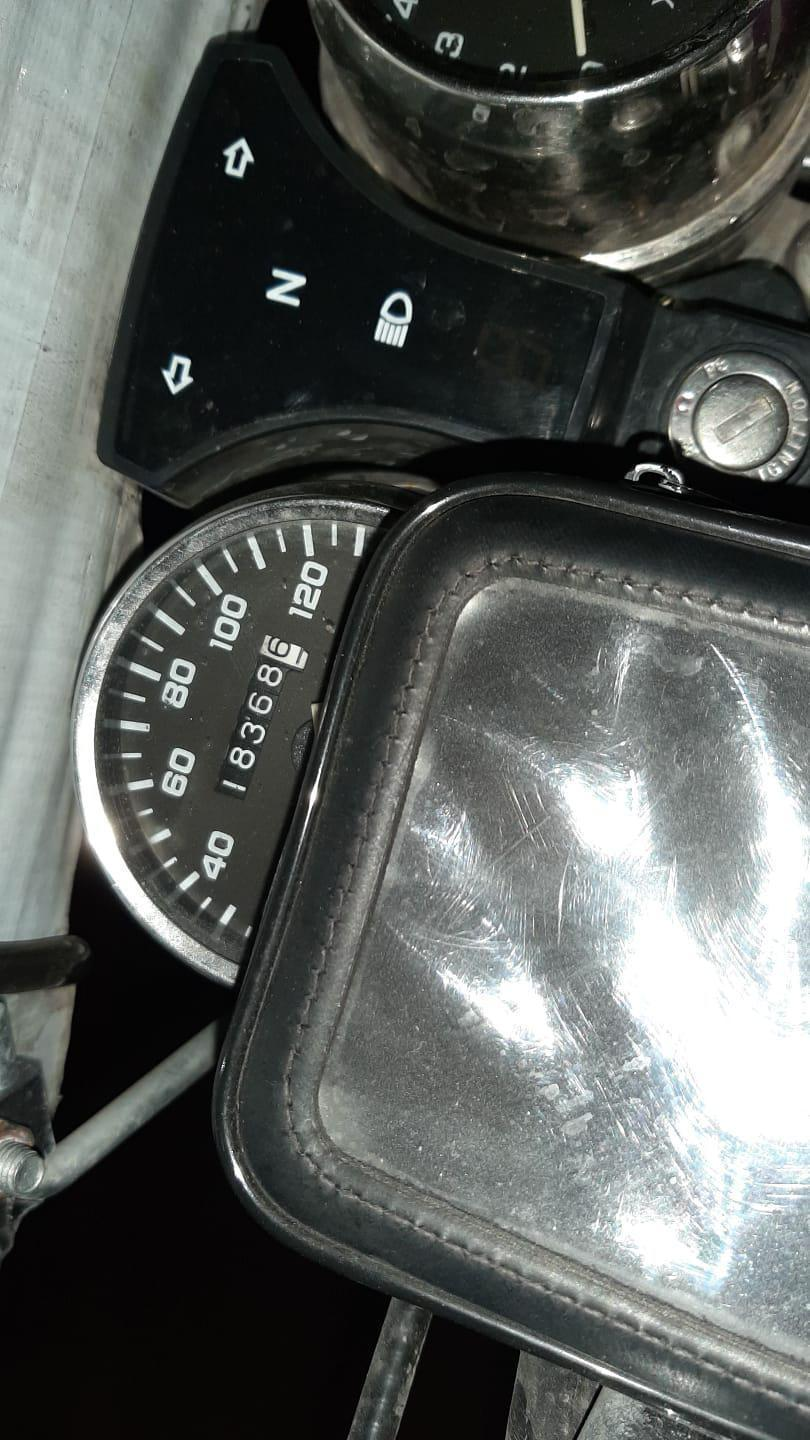1: (215, 777, 252, 795), (205, 638, 236, 653)
3: (234, 721, 270, 743)
6: (243, 690, 275, 715), (262, 634, 291, 658)
8: (224, 746, 260, 770), (253, 663, 283, 687)
odometer: (211, 631, 315, 804)
